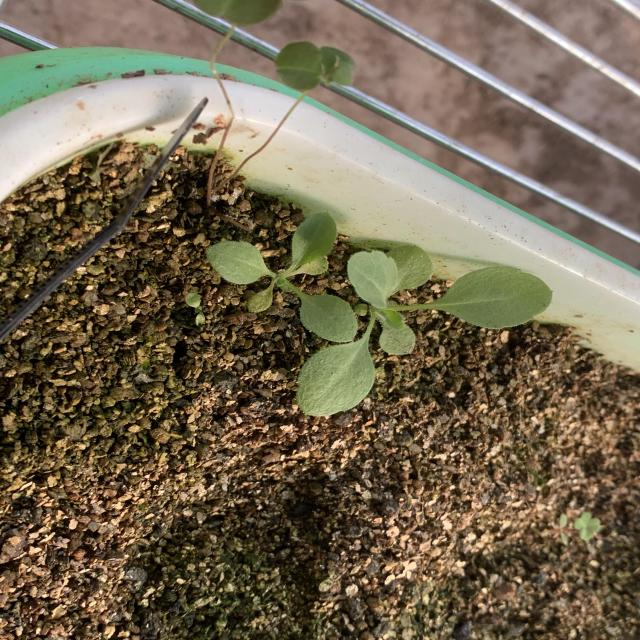horseweed: (216, 91, 407, 426)
